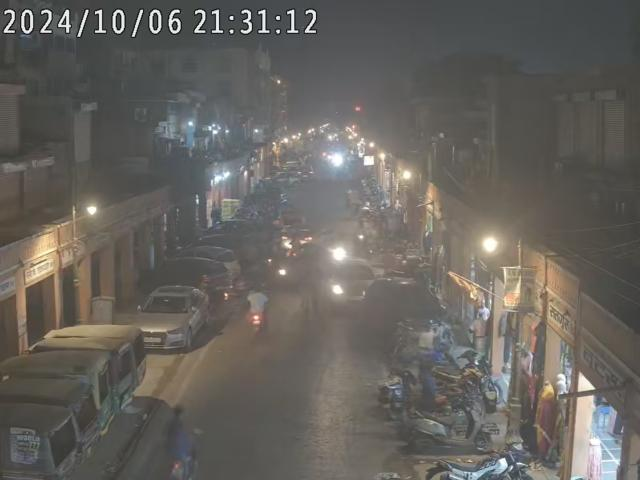auto: (0, 323, 149, 480)
car: (131, 284, 208, 355), (326, 256, 379, 314)
motorbike-rider: (239, 280, 271, 339)
